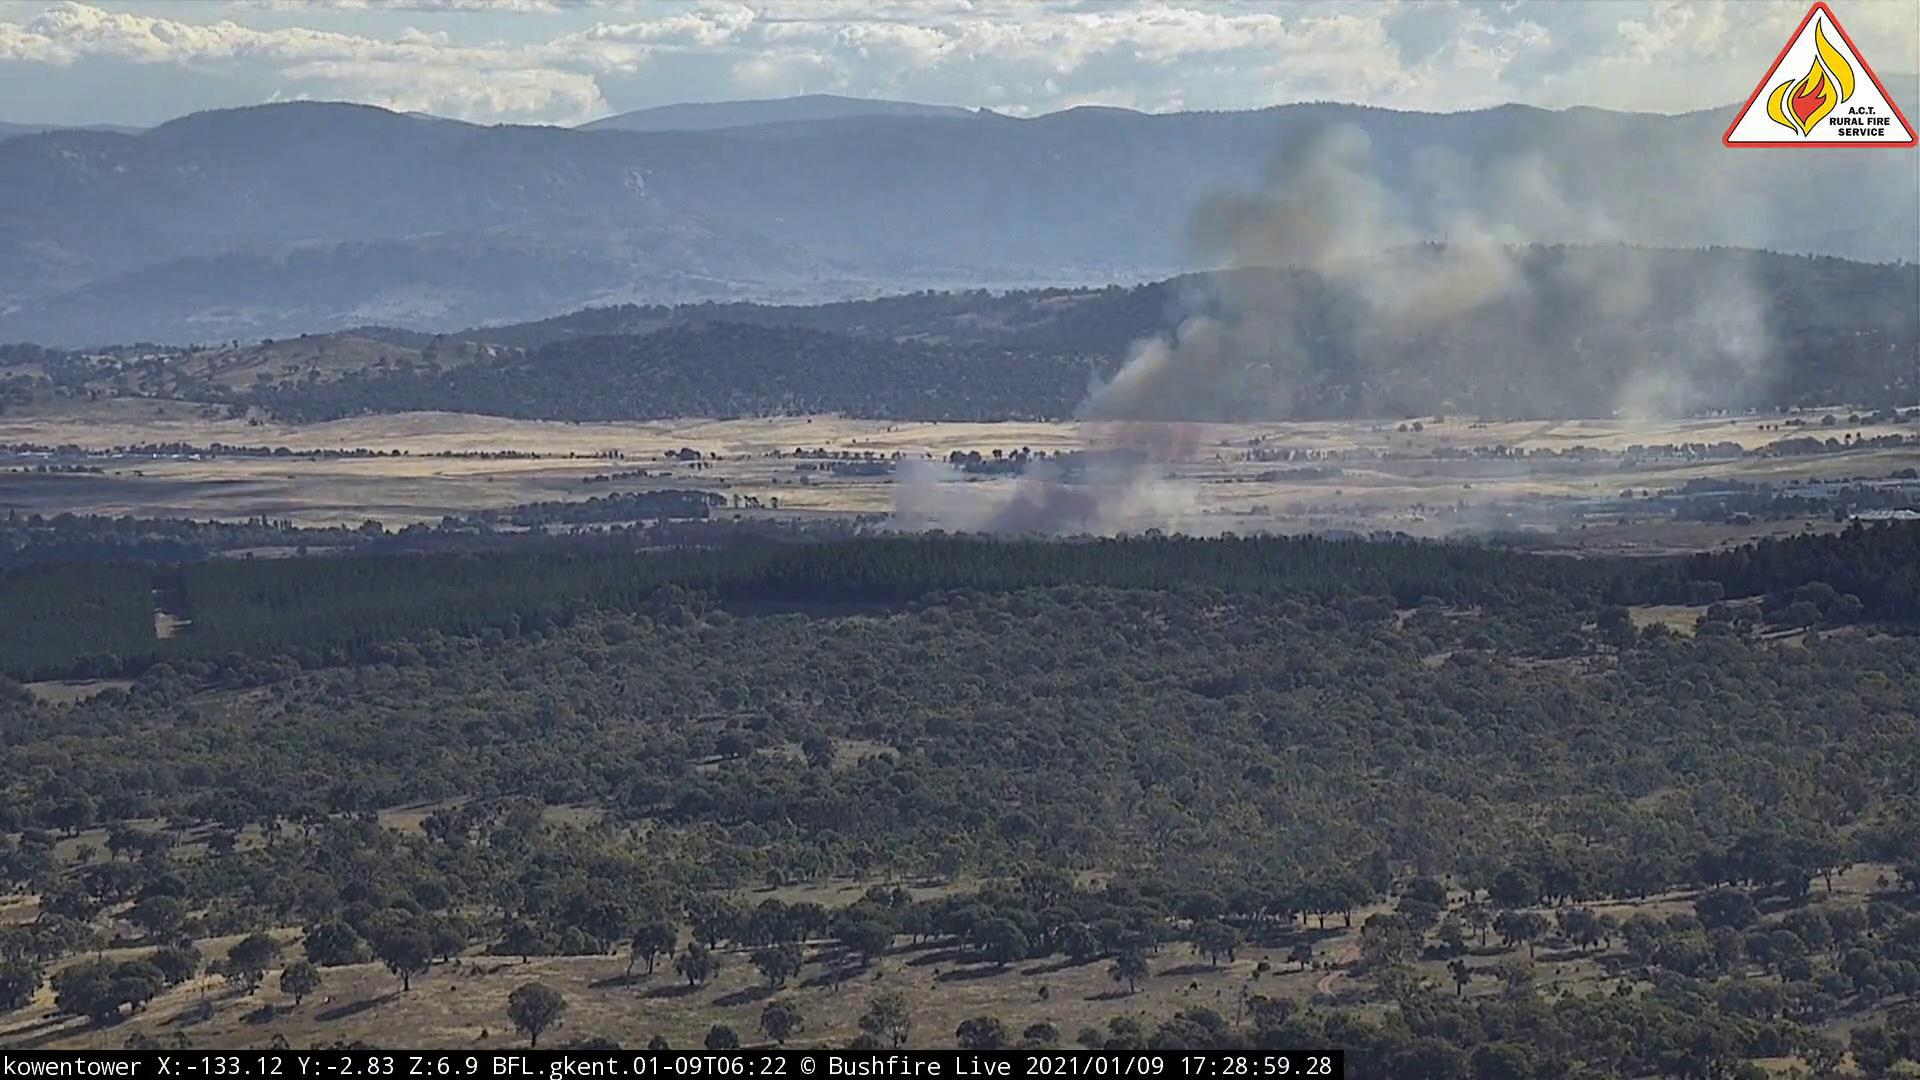Smoke: (877, 75, 1716, 550)
